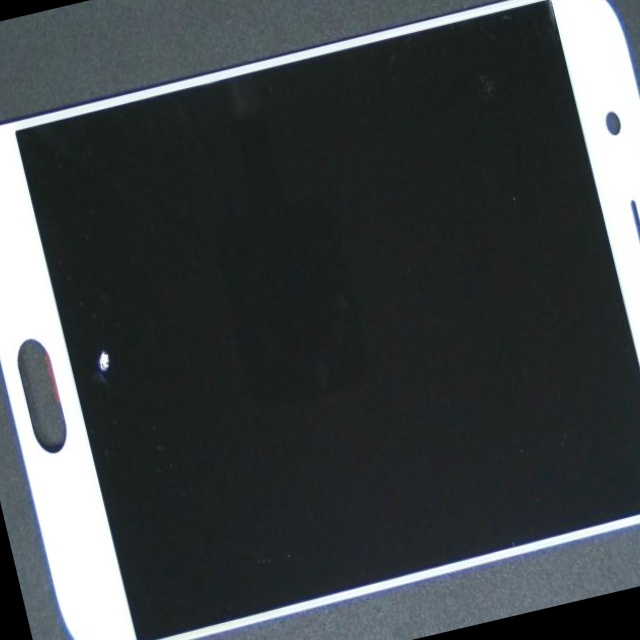stain: (28, 189, 224, 532)
